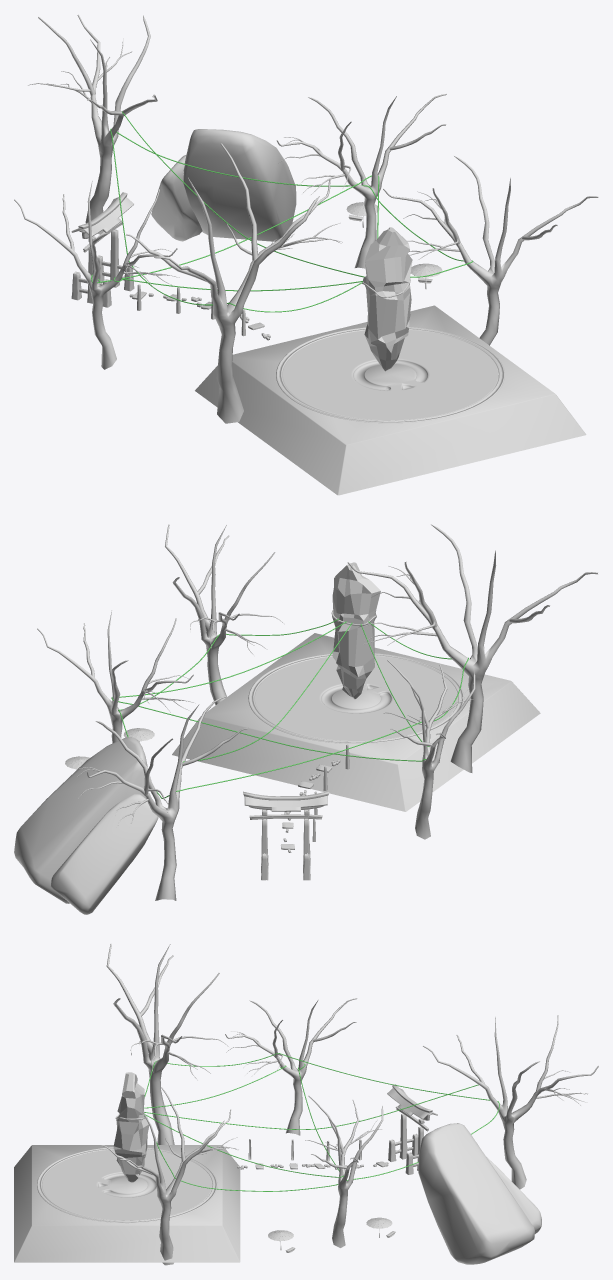
File: scene_physic.glb
3 views of the same model, one above another, from view 1: azimuth 30°, elevation 25°; view 2: azimuth 150°, elevation 25°; view 3: azimuth 270°, elevation 25° (orthographic). The views are drawn at different scales.
Visible parts, largest first — view 1: rope4; view 2: rope4; view 3: rope4.
Boxes of the visible parts, x1,y1,x2,y2 form: rope4: (14,14,598,495); rope4: (14,524,597,914); rope4: (14,943,598,1265).
Size of the model in its own units: 148 by 87.25 by 212.
